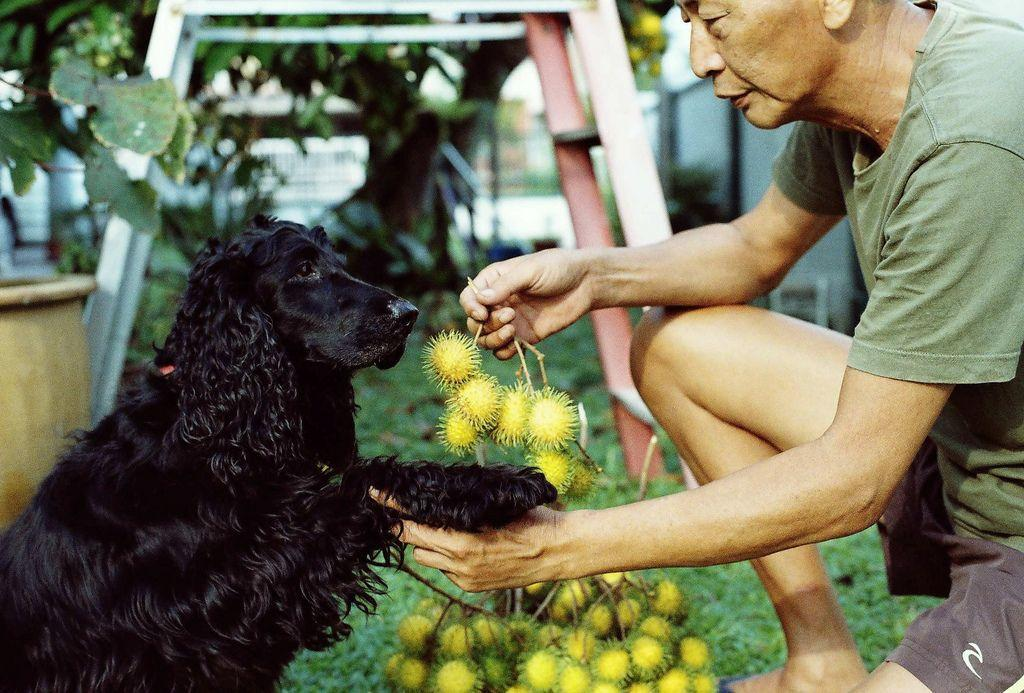face: (675, 5, 817, 129)
